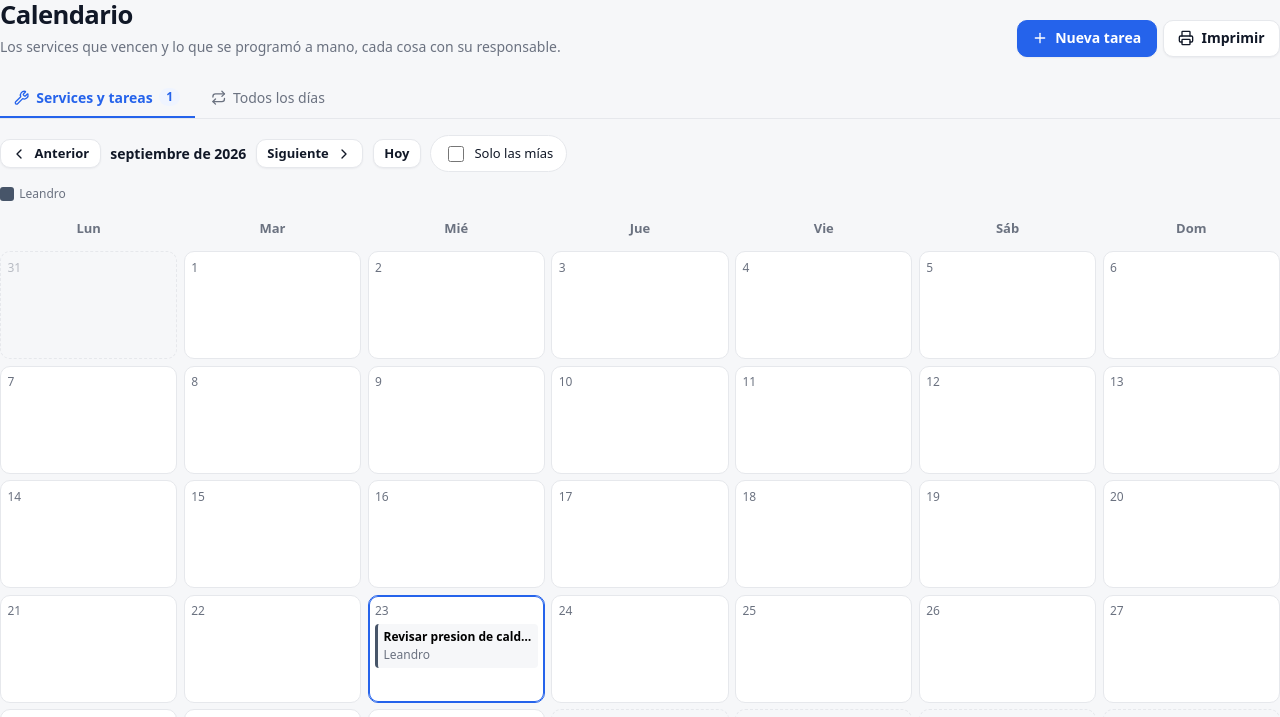
Test: CalendarioPage › REGRESION: la tarea de otro se ve pero no se puede dar por hecha
This screenshot has width=1280, height=717.
Click the text "Revisar presion de caldera": [458, 637] box [384,628,532,646]
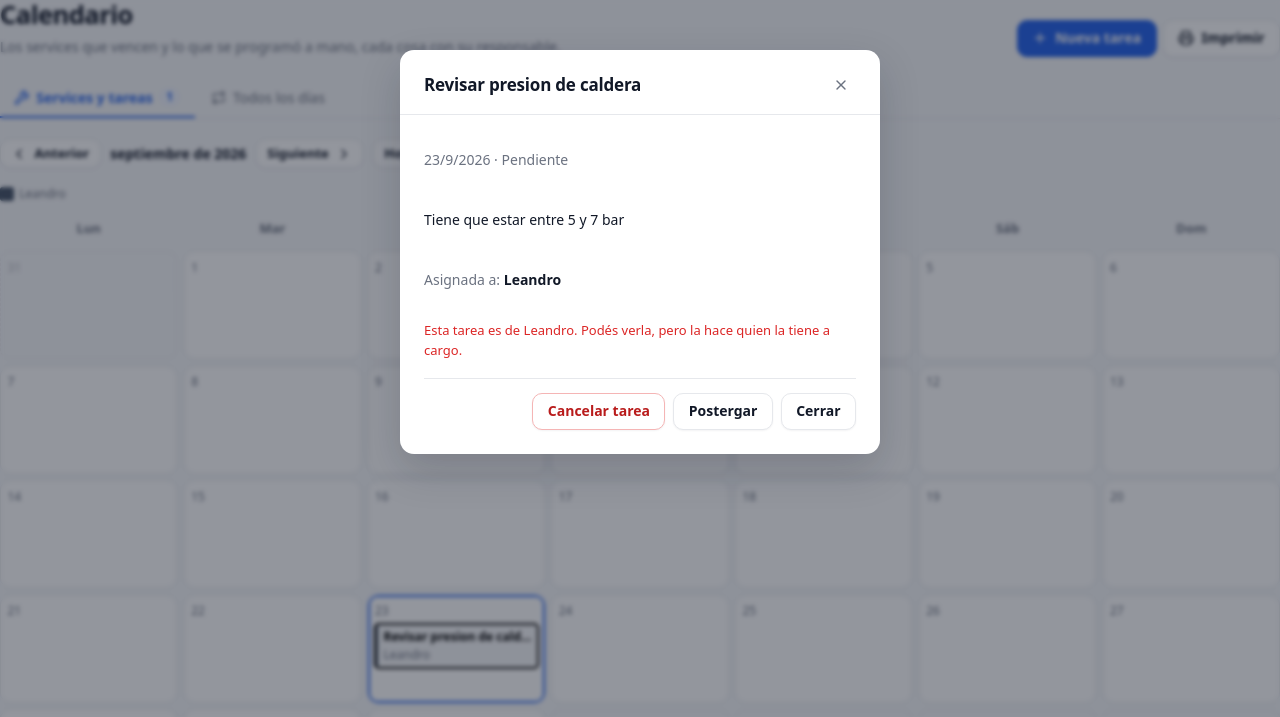
Expected: the text "es de Leandro" is shown, [424,321,856,360]
